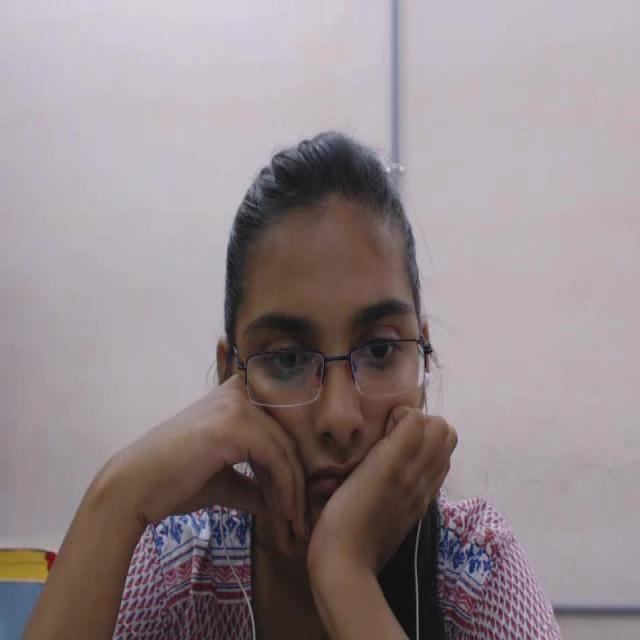Bored: (195, 90, 461, 640)
